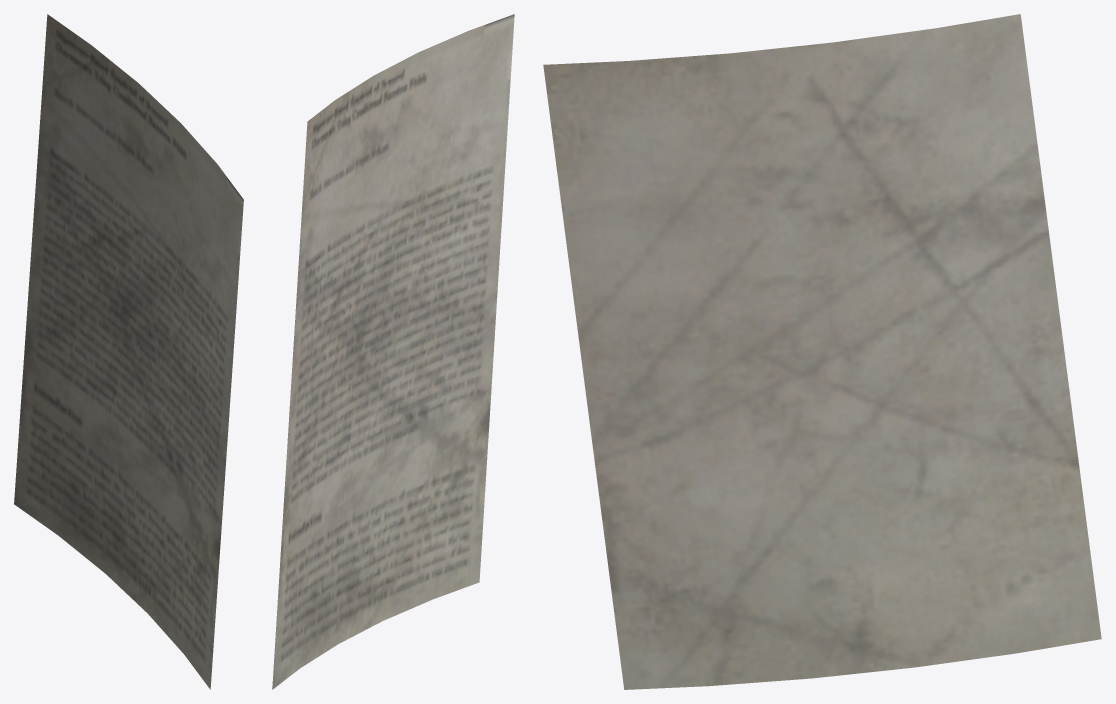
The model's file is Paper_G_mo_013.fbx.
3 renders of one model, left to right at view 1: azimuth 30°, elevation 25°; view 2: azimuth 150°, elevation 25°; view 3: azimuth 270°, elevation 25°, orthographic. The views are drawn at different scales.
Parts seen in each view (by area): view 1: Paper_G.mo.013; view 2: Paper_G.mo.013; view 3: Paper_G.mo.013.
Boxes of the visible parts, <box> form: Paper_G.mo.013: <box>14,14,243,689</box>; Paper_G.mo.013: <box>272,14,514,689</box>; Paper_G.mo.013: <box>543,14,1101,689</box>.
Size of the model in its own units: 1.29 by 47.68 by 35.7.
